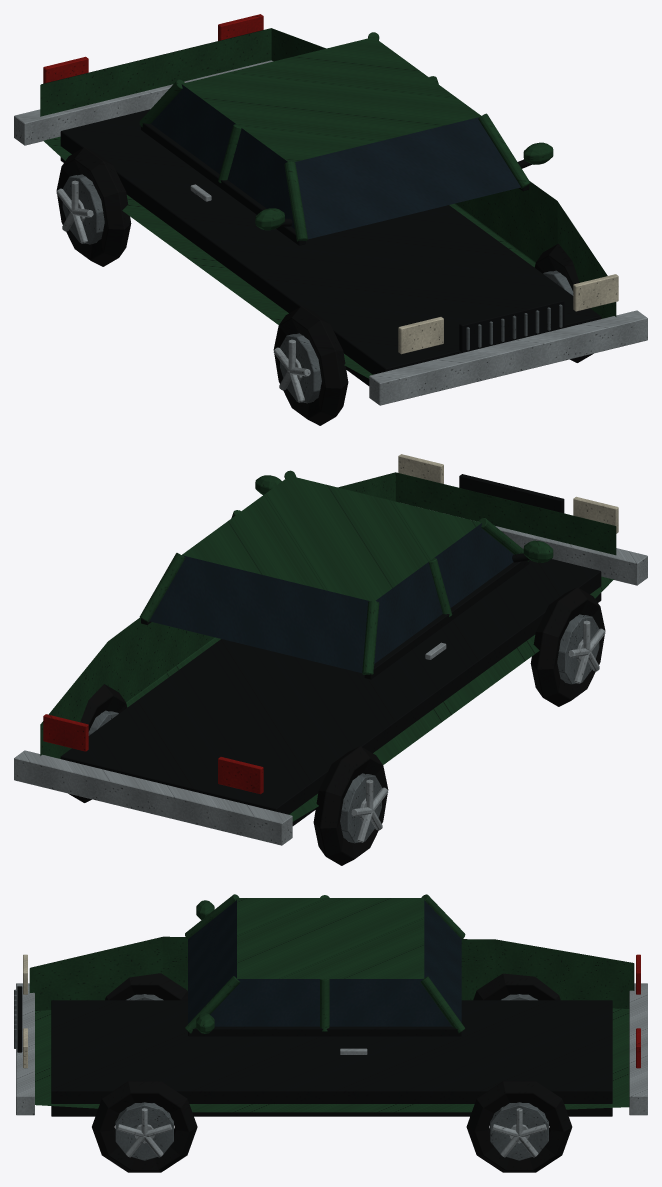
The model's file is PROP-222FD1ABC060_lod1.glb.
3 views of the same model, one above another, from view 1: azimuth 30°, elevation 25°; view 2: azimuth 150°, elevation 25°; view 3: azimuth 270°, elevation 25° (orthographic). The views are drawn at different scales.
Parts seen in each view (by area): view 1: chassis.005, sloped_cabin_glazing.005, roof_panel.005, shaped_body_panels.005, bumper.005, tire.005, rim.005, window_pillars.005, lamp_lenses.010, radiator_grille.005, window_belt.005, rim_spokes.005 (+3 smaller); view 2: chassis.005, sloped_cabin_glazing.005, roof_panel.005, shaped_body_panels.005, bumper.005, tire.005, rim.005, window_pillars.005, lamp_lenses.011, window_belt.005, lamp_lenses.010, rim_spokes.005 (+2 smaller); view 3: chassis.005, shaped_body_panels.005, sloped_cabin_glazing.005, roof_panel.005, tire.005, rim.005, bumper.005, window_belt.005, window_pillars.005, rim_spokes.005, mirror.005, lamp_lenses.010 (+1 smaller).
Boxes of the visible parts, x1,y1,x2,y2 form: chassis.005: (60, 109, 601, 385); sloped_cabin_glazing.005: (151, 84, 520, 239); roof_panel.005: (182, 37, 480, 161); shaped_body_panels.005: (40, 28, 616, 378); bumper.005: (14, 60, 647, 405); tire.005: (56, 147, 593, 425); rim.005: (62, 174, 573, 403); window_pillars.005: (139, 32, 530, 241); lamp_lenses.010: (398, 274, 618, 354); radiator_grille.005: (459, 299, 564, 352); window_belt.005: (141, 123, 529, 245); rim_spokes.005: (56, 180, 310, 402); chassis.005: (60, 559, 601, 825); sloped_cabin_glazing.005: (149, 523, 513, 672); roof_panel.005: (182, 476, 481, 600); shaped_body_panels.005: (40, 472, 616, 821); bumper.005: (14, 526, 647, 845); tire.005: (68, 587, 605, 865); rim.005: (88, 614, 599, 843); window_pillars.005: (139, 470, 529, 675); lamp_lenses.011: (43, 714, 263, 794); window_belt.005: (141, 560, 529, 679); lamp_lenses.010: (398, 454, 618, 533); rim_spokes.005: (351, 620, 605, 842); chassis.005: (51, 1000, 612, 1116); shaped_body_panels.005: (29, 936, 634, 1112); sloped_cabin_glazing.005: (188, 899, 461, 1026); roof_panel.005: (237, 898, 424, 978); tire.005: (92, 973, 572, 1172); rim.005: (115, 994, 548, 1160); bumper.005: (16, 983, 647, 1115); window_belt.005: (188, 1026, 461, 1036); window_pillars.005: (185, 894, 465, 1033); rim_spokes.005: (117, 1108, 546, 1157); mirror.005: (196, 900, 214, 1033); lamp_lenses.010: (23, 954, 27, 1068).
Size of the model in its own units: 2.09 by 1.4 by 4.41.
8 materials, 8 textured.
